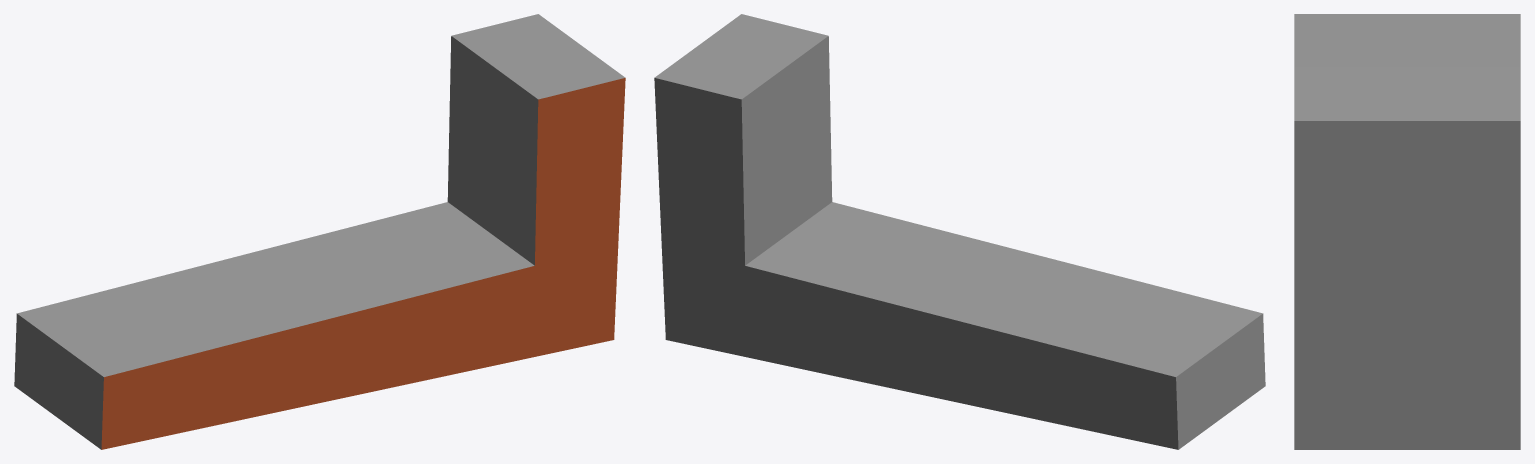
File: construction_4868_assumed_A_Casa_h6m.obj
3 views of the same model, side by side, from view 1: azimuth 30°, elevation 25°; view 2: azimuth 150°, elevation 25°; view 3: azimuth 270°, elevation 25° (orthographic). The views are drawn at different scales.
Visible parts, largest first — view 1: construction_4868_assumed_A_Casa; view 2: construction_4868_assumed_A_Casa; view 3: construction_4868_assumed_A_Casa.
Part boxes in pixels (x1,y1,x2,y2): construction_4868_assumed_A_Casa: [14, 14, 625, 449]; construction_4868_assumed_A_Casa: [654, 14, 1265, 449]; construction_4868_assumed_A_Casa: [1294, 14, 1520, 449].
Size of the model in its own units: 20.84 by 9.85 by 6.
